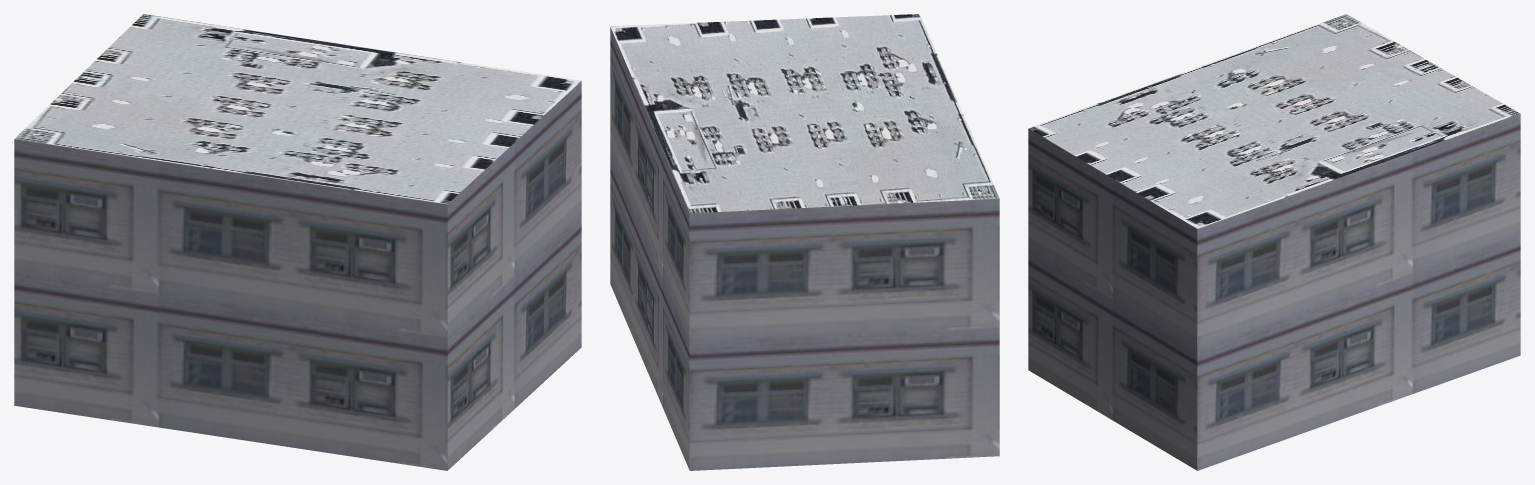
File: ResTex__1556.fbx
3 renders of one model, left to right at view 1: azimuth 30°, elevation 25°; view 2: azimuth 150°, elevation 25°; view 3: azimuth 270°, elevation 25°, orthographic. The views are drawn at different scales.
Visible parts, largest first — view 1: CityEngineMaterial_1_m, CityEngineMaterial_4_m; view 2: CityEngineMaterial_1_m, CityEngineMaterial_4_m; view 3: CityEngineMaterial_1_m, CityEngineMaterial_4_m.
Part boxes in pixels (x1,y1,x2,y2): CityEngineMaterial_1_m: (14, 81, 581, 470); CityEngineMaterial_4_m: (15, 14, 581, 204); CityEngineMaterial_1_m: (610, 27, 999, 470); CityEngineMaterial_4_m: (610, 14, 999, 213); CityEngineMaterial_1_m: (1028, 113, 1520, 470); CityEngineMaterial_4_m: (1029, 14, 1519, 228).
Bounding box in the file's own units: 11.43 × 6 × 11.06.
2 materials, 2 textured.
